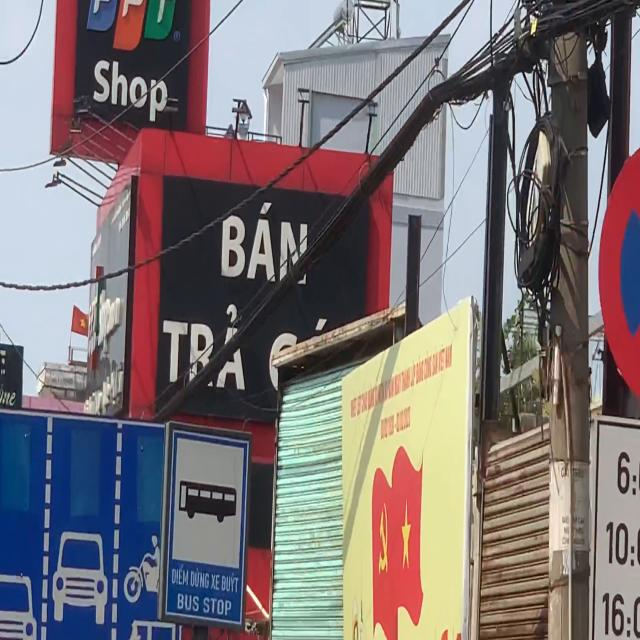Ben xe buyt: (160, 420, 252, 634)
